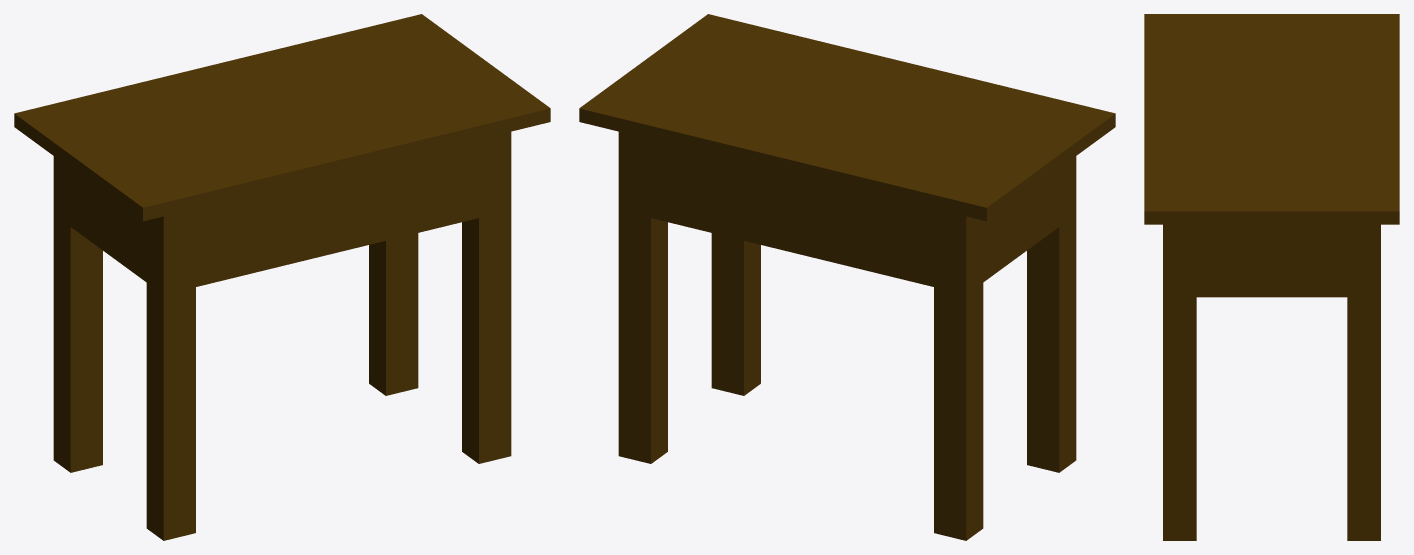
Rendered from Desk.fbx.
3 renders of one model, left to right at view 1: azimuth 30°, elevation 25°; view 2: azimuth 150°, elevation 25°; view 3: azimuth 270°, elevation 25°, orthographic.
Parts seen in each view (by area): view 1: Desk; view 2: Desk; view 3: Desk.
Part boxes in pixels (x1,y1,x2,y2): Desk: (14,14,550,540); Desk: (579,14,1115,540); Desk: (1144,14,1399,540).
Bounding box in the file's own units: 622 × 507 × 341.
